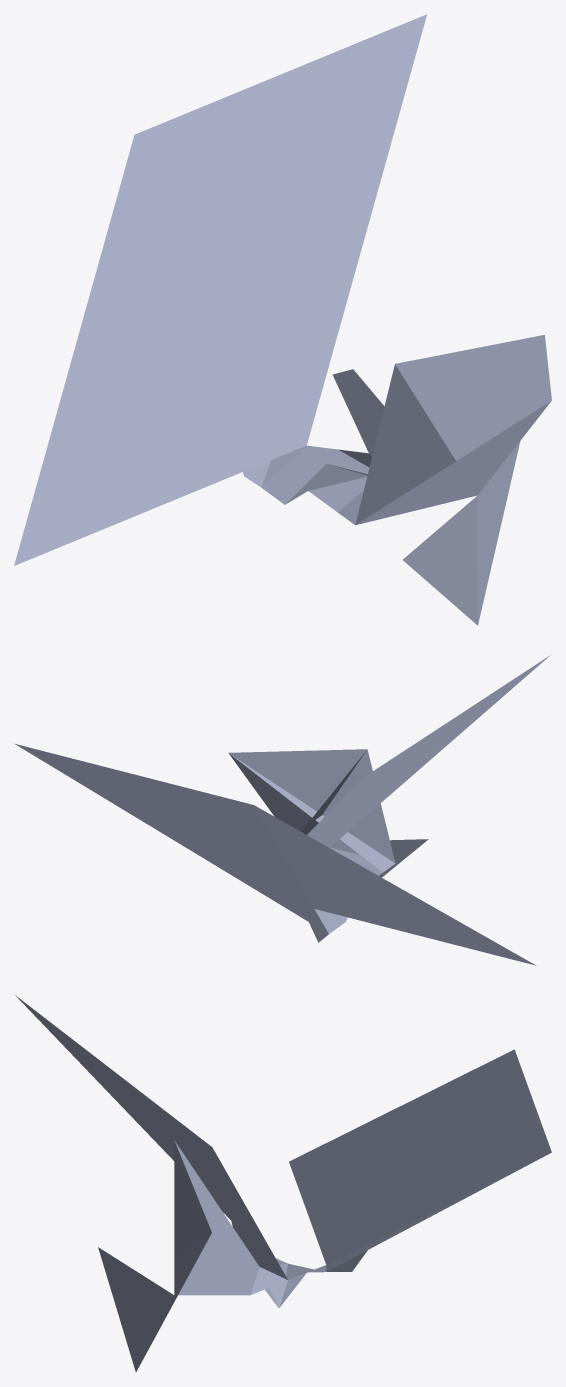
Rendered from ribbon.glb.
The picture shows the model from 3 angles, top to bottom: view 1: azimuth 30°, elevation 25°; view 2: azimuth 150°, elevation 25°; view 3: azimuth 270°, elevation 25°; orthographic projection. The views are drawn at different scales.
Visible parts, largest first — view 1: Plane; view 2: Plane; view 3: Plane.
Part boxes in pixels (box(x1,y1,x2,y2)): Plane: box(14, 14, 551, 625); Plane: box(14, 654, 551, 965); Plane: box(15, 995, 551, 1371).
Bounding box in the file's own units: 9.41 × 5.82 × 9.41.
